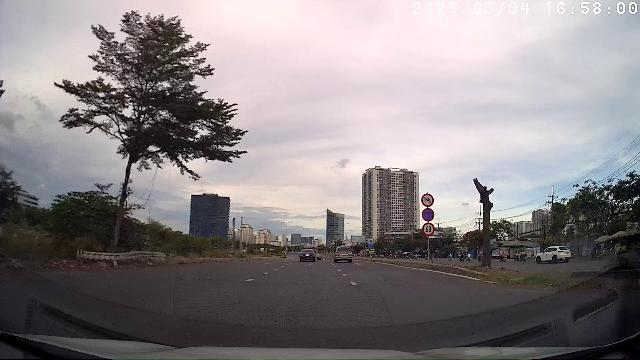127-toc-do-toi-da-60: (422, 222, 434, 236)
130-cam-dung-va-do-xe: (422, 208, 434, 222)
